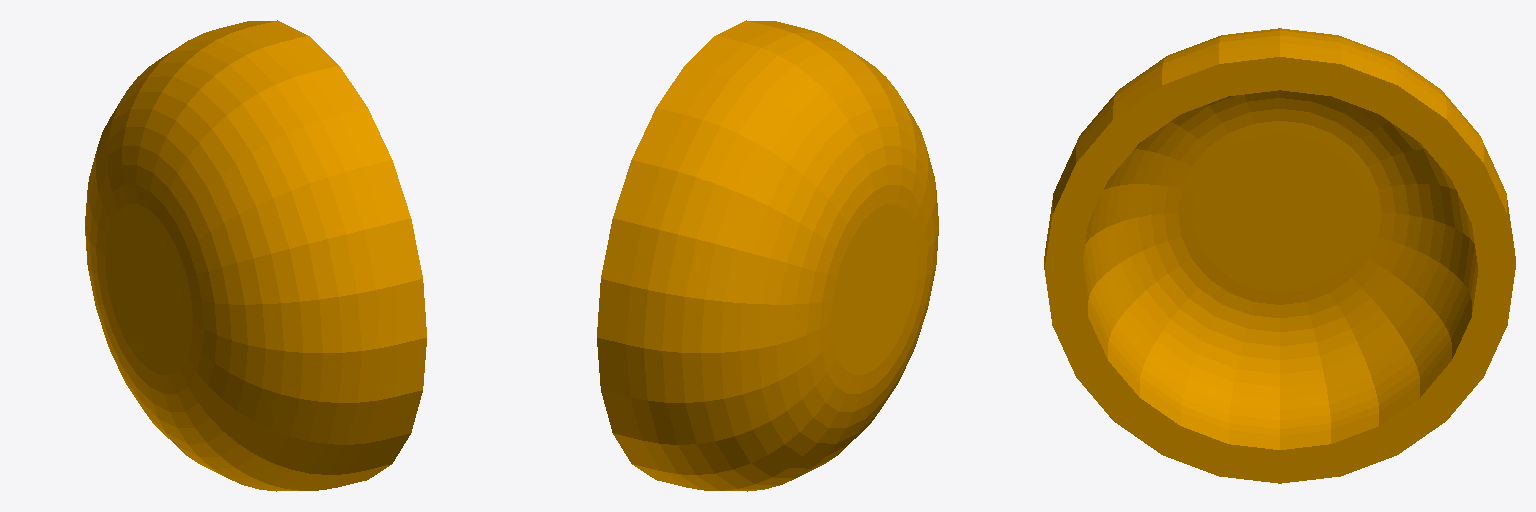
robot.urdf — obj_16:
<?xml version="1.0"?>
<robot name="obj_16">
  <link name="obj_16">
    <visual>
      <origin xyz="0.0 0.0 0.0" rpy="0 0 0"/>
      <geometry>
        <mesh filename="../mesh/ncf_mug_cupholder/obj_assets/16/obj_collision.obj" scale="1 1 1"/>
      </geometry>
    </visual>
    <collision>
      <origin xyz="0.0 0.0 0.0" rpy="0 0 0"/>
      <geometry>
        <mesh filename="../mesh/ncf_mug_cupholder/obj_assets/16/obj_collision.obj" scale="1 1 1"/>
      </geometry>
      <sdf resolution="512"/>
    </collision >    
    <inertial>
      <mass value="0.102"/>
      <inertia ixx="0.0001" ixy="0.0" ixz="0.0" iyy="0.0001" iyz="0.0" izz="0.0001"/>
    </inertial>
  </link>
</robot>

--- Facts derived from the render (not from the file) ---
3 views of the same robot in one strip: view 1: azimuth 30°, elevation 25°; view 2: azimuth 150°, elevation 25°; view 3: azimuth 270°, elevation 25° (orthographic).
Robot: obj_16 — 1 links, 0 joints (none); root link obj_16; default pose: every joint at zero.
Links seen in each view (by area): view 1: obj_16; view 2: obj_16; view 3: obj_16.
Link boxes in pixels (<box>): obj_16: <box>85,20,426,491</box>; obj_16: <box>597,20,938,491</box>; obj_16: <box>1044,28,1515,483</box>.
Bounding box of the posed robot: 0.0398 × 0.1023 × 0.1023 m (x, y, z).
Meshes: 1 distinct files referenced, 1 mesh visuals loaded (1 OBJ).